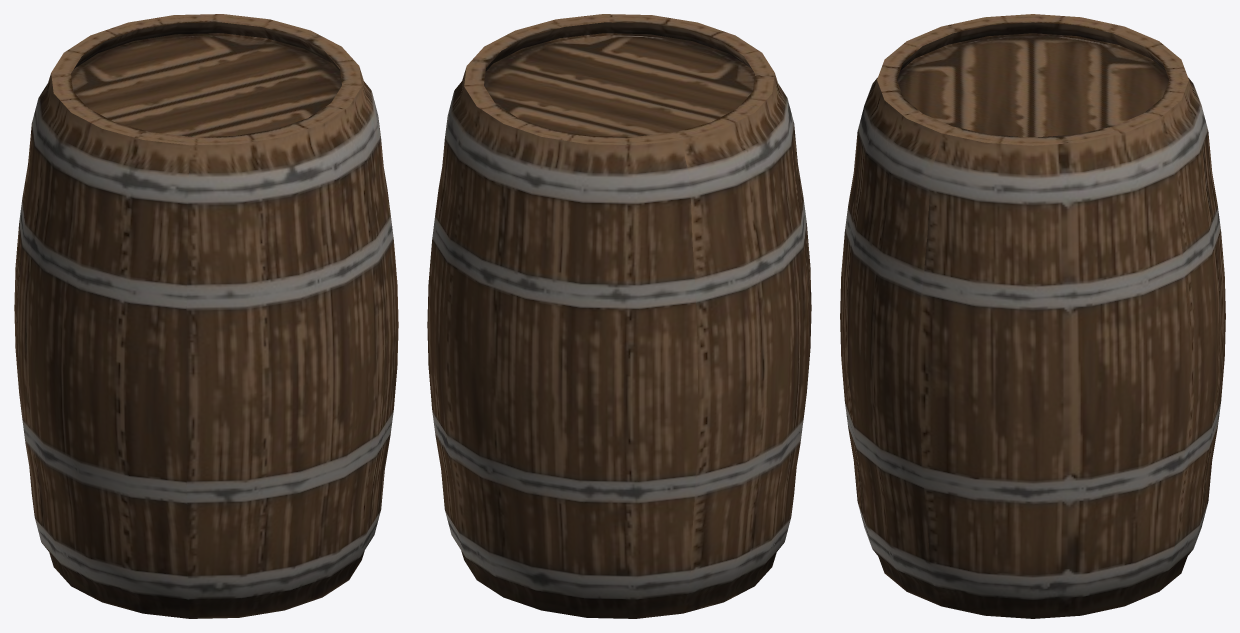
The model's file is barrel.glb.
3 views of the same model, side by side, from view 1: azimuth 30°, elevation 25°; view 2: azimuth 150°, elevation 25°; view 3: azimuth 270°, elevation 25° (orthographic).
Visible parts, largest first — view 1: barrel; view 2: barrel; view 3: barrel.
Boxes of the visible parts, <box> form: barrel: <box>14,14,398,618</box>; barrel: <box>427,14,811,618</box>; barrel: <box>840,14,1225,618</box>.
Bounding box in the file's own units: 0.68 × 0.92 × 0.68.
Materials: 1 (1 with a texture image).
